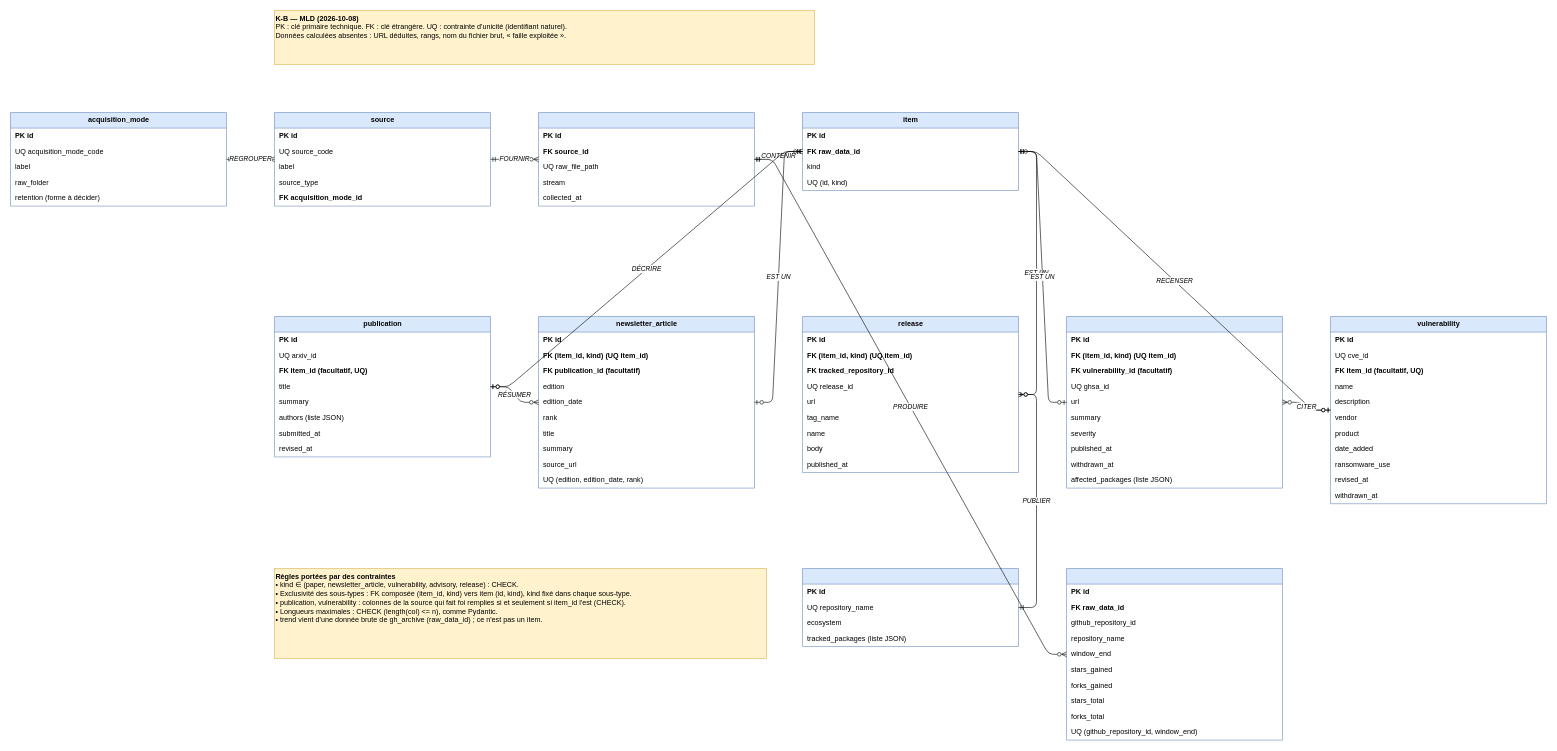
The diagram is 1557 pixels wide and 751 high, and some of its shapes have lost their labels. The shapes that lost their labels are listed below. From the top down, each one's box as (x1, y1, x2, y2) in pixels, then its label:
(538, 112, 754, 206): raw_data
(1066, 316, 1282, 488): advisory
(802, 568, 1018, 646): tracked_repository
(1066, 568, 1282, 740): trend
